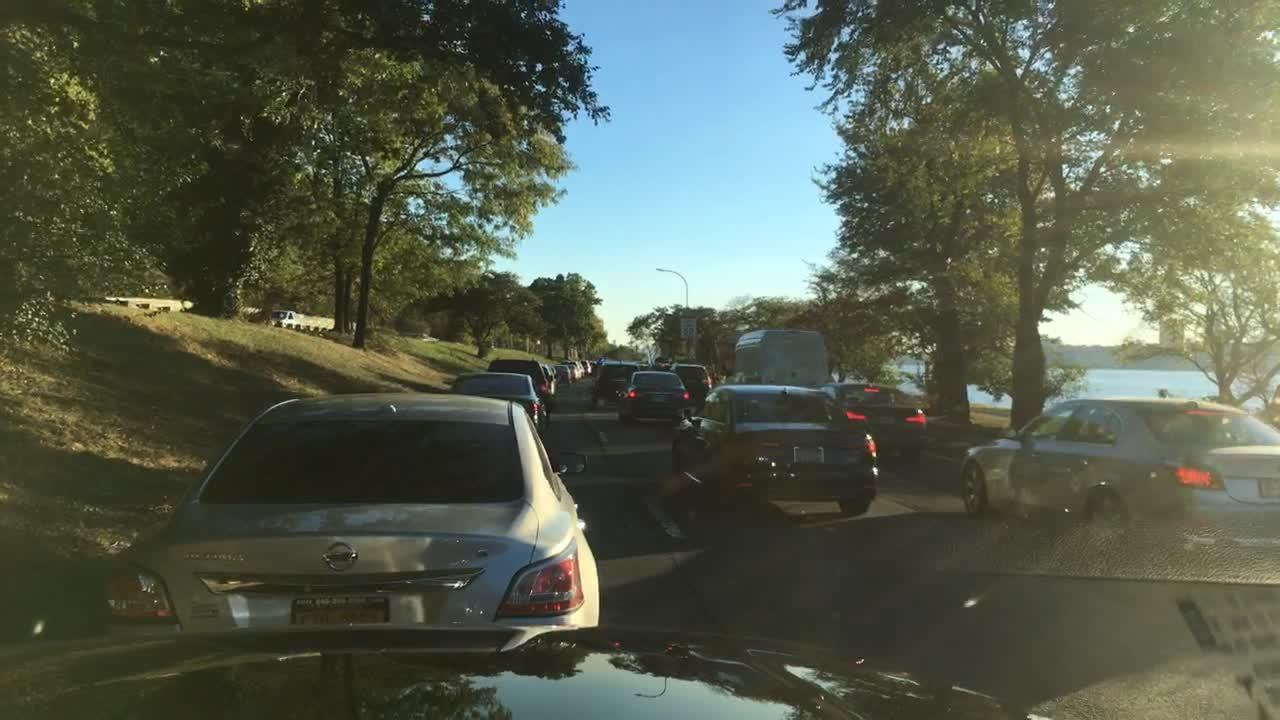Nissan: (314, 535, 363, 583)
